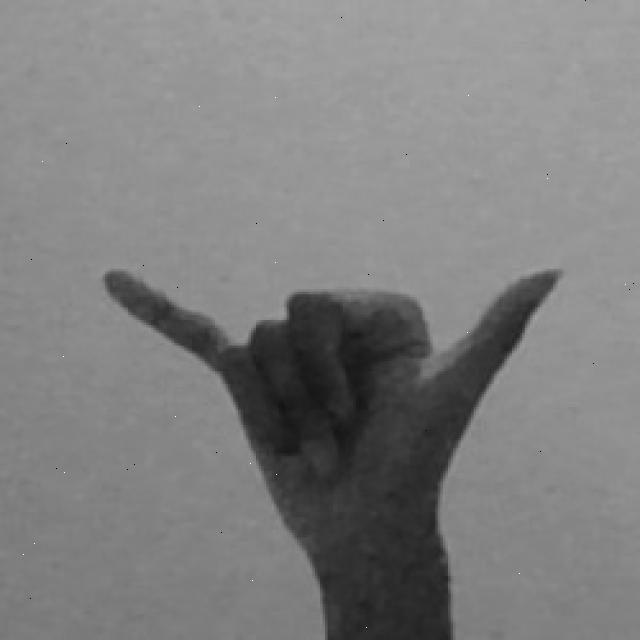Y: (93, 246, 569, 640)
